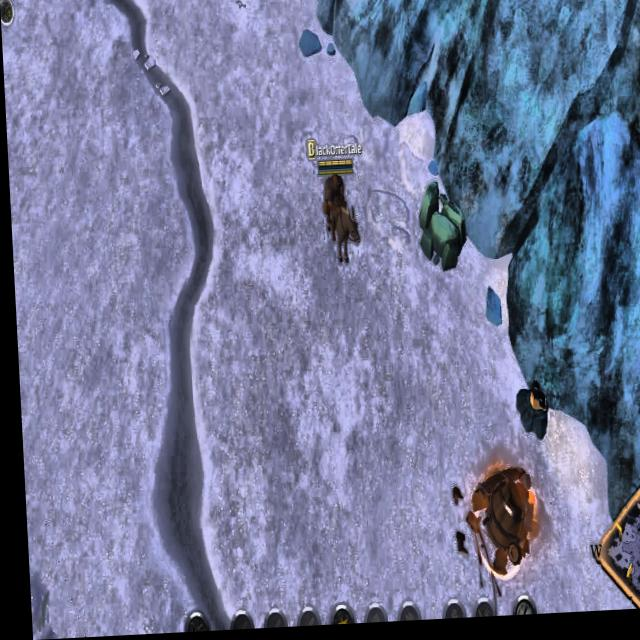copperore: (509, 372, 551, 454)
sandstone: (411, 182, 467, 280)
